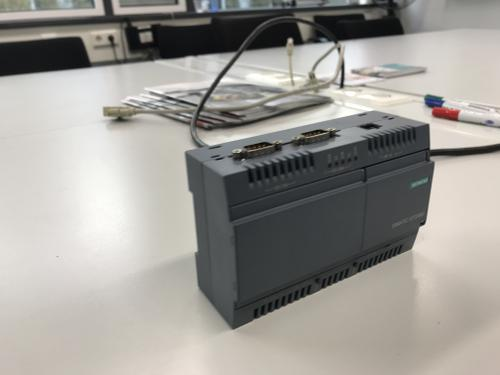device: (185, 109, 434, 330)
